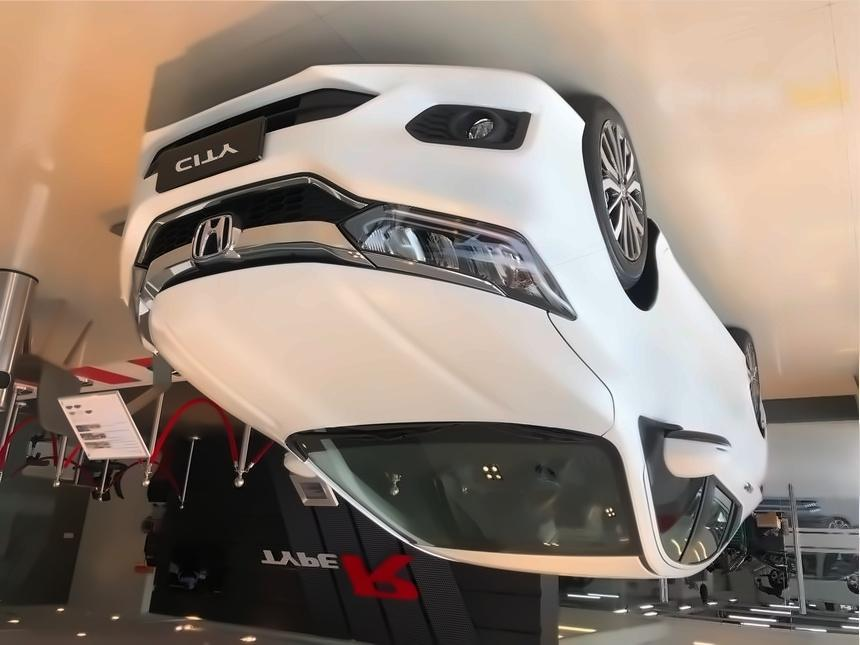Car hood: (148, 263, 617, 441)
Driver-s door - -F-R-: (626, 193, 731, 584)
Fender - -F-R-: (568, 117, 676, 412)
Front bumper: (115, 59, 591, 305)
Headlight - -R-: (334, 200, 577, 319)
Side bumper - -R-: (644, 216, 749, 384)
Side mirror - -R-: (653, 421, 730, 481)
